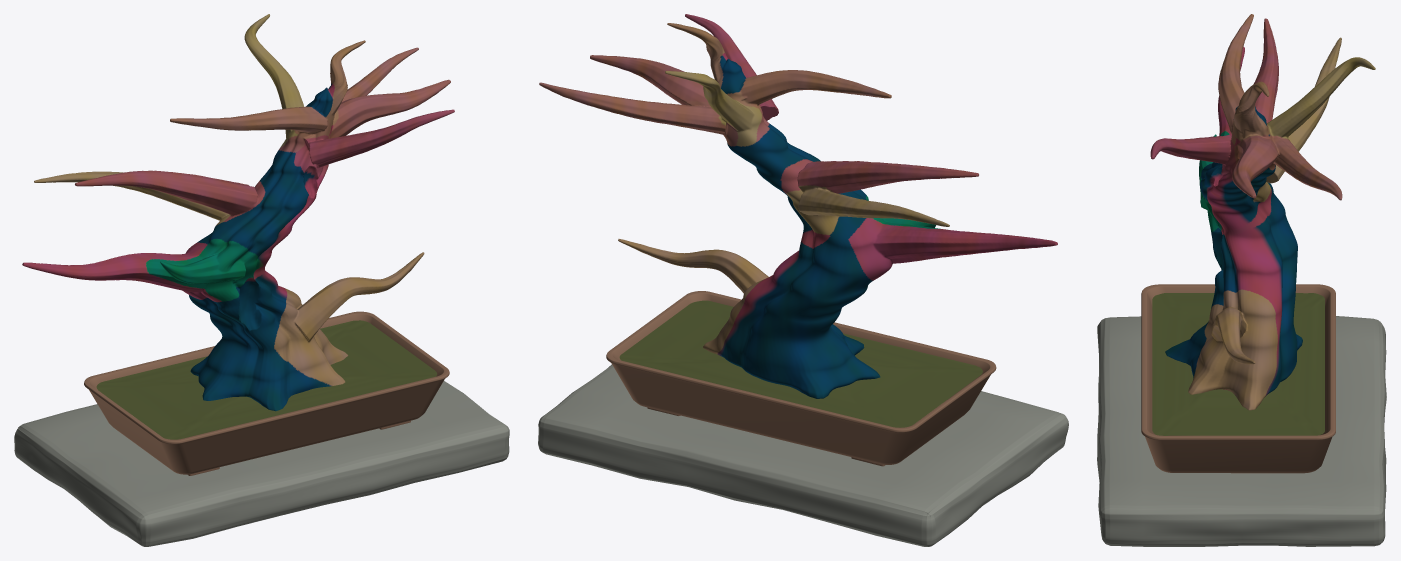
The model's file is hero-core-v01.glb.
3 renders of one model, left to right at view 1: azimuth 30°, elevation 25°; view 2: azimuth 150°, elevation 25°; view 3: azimuth 270°, elevation 25°, orthographic. The views are drawn at different scales.
Parts seen in each view (by area): view 1: Continuous aged trunk and primary branches, Low natural bedding stone, Shallow unglazed pot, Continuous planted soil; view 2: Continuous aged trunk and primary branches, Low natural bedding stone, Shallow unglazed pot, Continuous planted soil; view 3: Low natural bedding stone, Continuous aged trunk and primary branches, Continuous planted soil, Shallow unglazed pot.
Boxes of the visible parts, left/top/right/bottom form: Continuous aged trunk and primary branches: left=22, top=14, right=454, bottom=411; Low natural bedding stone: left=14, top=381, right=509, bottom=546; Shallow unglazed pot: left=84, top=311, right=449, bottom=474; Continuous planted soil: left=96, top=320, right=436, bottom=439; Continuous aged trunk and primary branches: left=539, top=14, right=1057, bottom=398; Low natural bedding stone: left=538, top=364, right=1068, bottom=546; Shallow unglazed pot: left=606, top=291, right=996, bottom=464; Continuous planted soil: left=619, top=300, right=982, bottom=427; Low natural bedding stone: left=1097, top=316, right=1386, bottom=546; Continuous aged trunk and primary branches: left=1150, top=14, right=1375, bottom=410; Continuous planted soil: left=1152, top=293, right=1324, bottom=435; Shallow unglazed pot: left=1141, top=284, right=1335, bottom=473.
Bounding box in the file's own units: 2.44 × 2.05 × 1.28.
